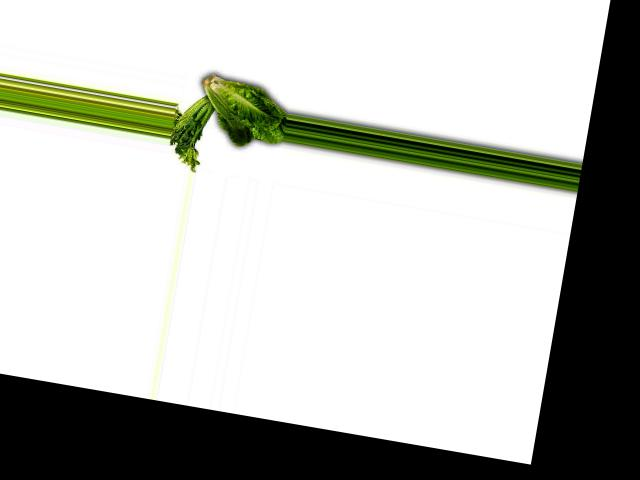lettuce: (187, 75, 292, 160)
